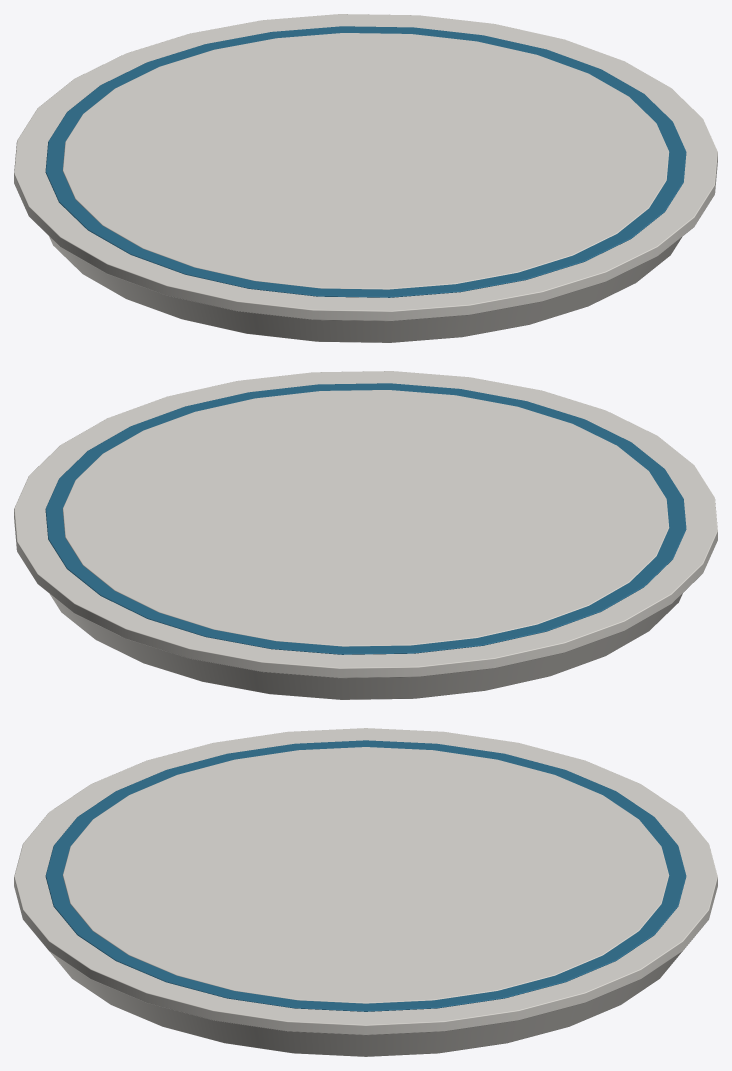
The model's file is Plate.glb.
3 renders of one model, top to bottom at view 1: azimuth 30°, elevation 25°; view 2: azimuth 150°, elevation 25°; view 3: azimuth 270°, elevation 25°, orthographic.
Visible parts, largest first — view 1: Plate; view 2: Plate; view 3: Plate.
Boxes of the visible parts, bbox=[...] form: Plate: bbox=[14, 14, 717, 342]; Plate: bbox=[14, 371, 717, 699]; Plate: bbox=[14, 728, 717, 1056].
Size of the model in its own units: 0.246 by 0.0232 by 0.246.
